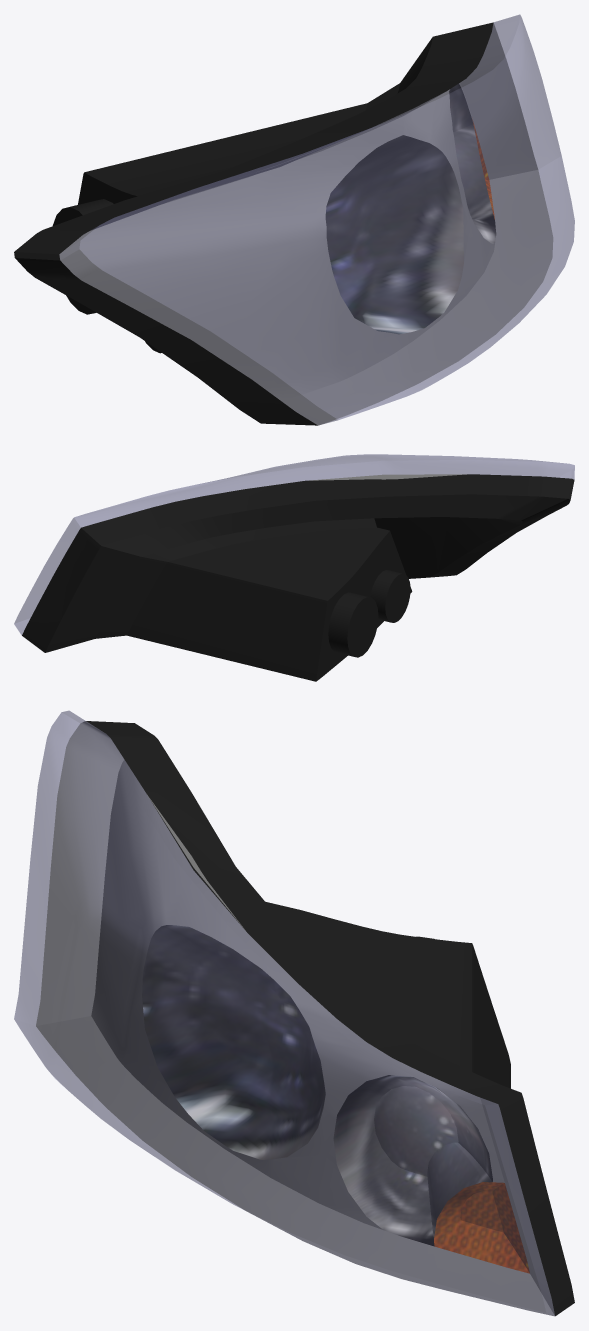
3 renders of one model, top to bottom at view 1: azimuth 30°, elevation 25°; view 2: azimuth 150°, elevation 25°; view 3: azimuth 270°, elevation 25°, orthographic. The views are drawn at different scales.
Parts seen in each view (by area): view 1: H141_061B_R_H141_061B_R_6_DTaSI, H141_061B_R_H141_061B_R_4_N, H141_061B_R_H141_061B_R_5_D, H141_061B_R_H141_061B_R_3_N, H141_061B_R_H141_061B_R_2_N; view 2: H141_061B_R_H141_061B_R_5_D, H141_061B_R_H141_061B_R_6_DTaSI, H141_061B_R_H141_061B_R_4_N; view 3: H141_061B_R_H141_061B_R_6_DTaSI, H141_061B_R_H141_061B_R_4_N, H141_061B_R_H141_061B_R_5_D, H141_061B_R_H141_061B_R_3_N, H141_061B_R_H141_061B_R_2_N, H141_061B_R_1_N_H141_061B_R.
Boxes of the visible parts, x1,y1,x2,y2 form: H141_061B_R_H141_061B_R_6_DTaSI: (59, 14, 574, 425); H141_061B_R_H141_061B_R_4_N: (59, 23, 553, 425); H141_061B_R_H141_061B_R_5_D: (14, 22, 493, 425); H141_061B_R_H141_061B_R_3_N: (325, 135, 463, 334); H141_061B_R_H141_061B_R_2_N: (449, 83, 496, 243); H141_061B_R_H141_061B_R_5_D: (22, 474, 574, 681); H141_061B_R_H141_061B_R_6_DTaSI: (14, 454, 574, 635); H141_061B_R_H141_061B_R_4_N: (309, 474, 466, 480); H141_061B_R_H141_061B_R_6_DTaSI: (14, 710, 554, 1315); H141_061B_R_H141_061B_R_4_N: (36, 721, 554, 1316); H141_061B_R_H141_061B_R_5_D: (86, 721, 574, 1316); H141_061B_R_H141_061B_R_3_N: (142, 925, 325, 1159); H141_061B_R_H141_061B_R_2_N: (333, 1075, 492, 1246); H141_061B_R_1_N_H141_061B_R: (434, 1182, 529, 1273).
Size of the model in its own units: 66.52 by 25.22 by 44.51.
